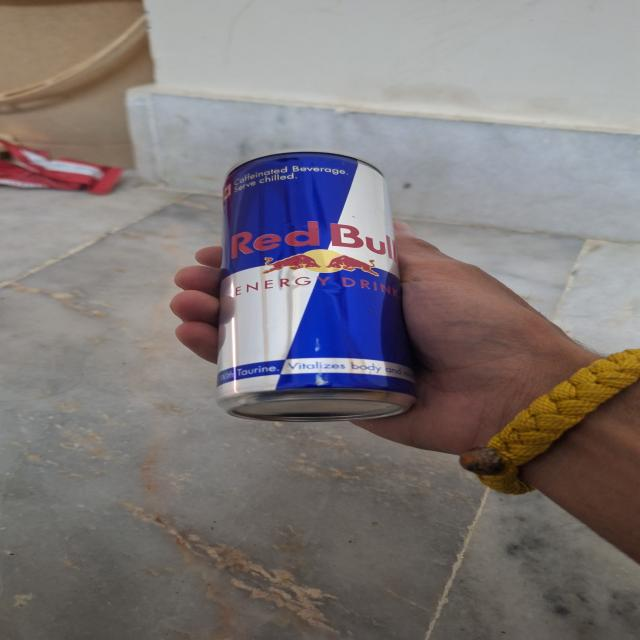Redbul: (205, 152, 432, 426)
